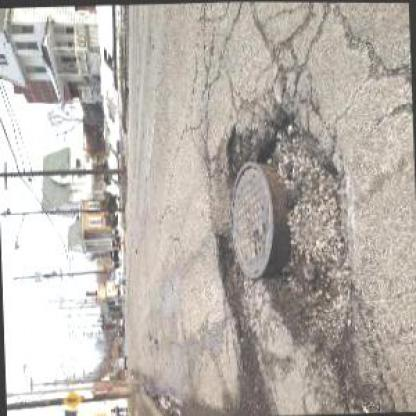pothole: (223, 104, 361, 356), (212, 228, 248, 310)
